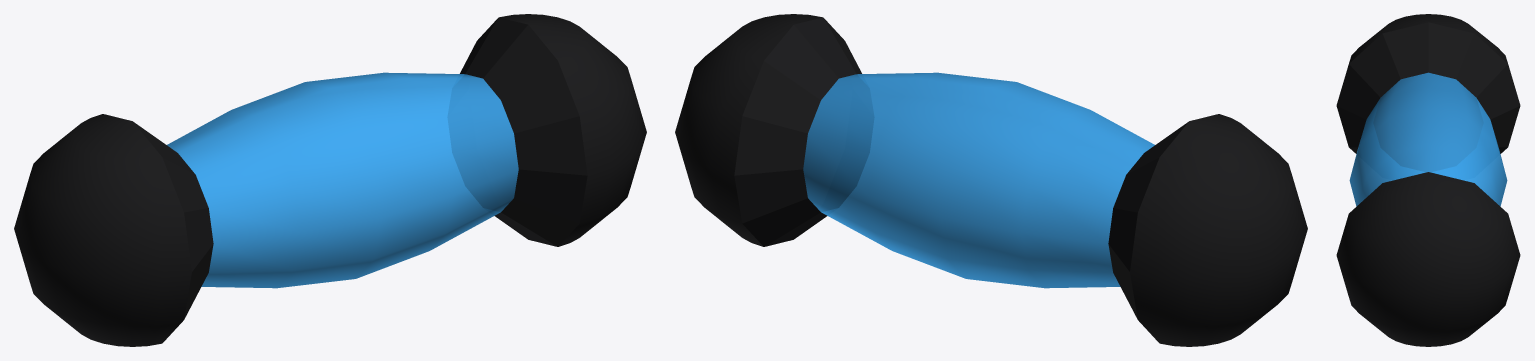
Rendered from Ammunition.fbx.
3 renders of one model, left to right at view 1: azimuth 30°, elevation 25°; view 2: azimuth 150°, elevation 25°; view 3: azimuth 270°, elevation 25°, orthographic. The views are drawn at different scales.
Parts seen in each view (by area): view 1: Sphere002; view 2: Sphere002; view 3: Sphere002.
Boxes of the visible parts, <box> form: Sphere002: <box>14,14,646,346</box>; Sphere002: <box>675,14,1307,346</box>; Sphere002: <box>1336,14,1520,346</box>.
Bounding box in the file's own units: 275 × 94.16 × 94.16.
